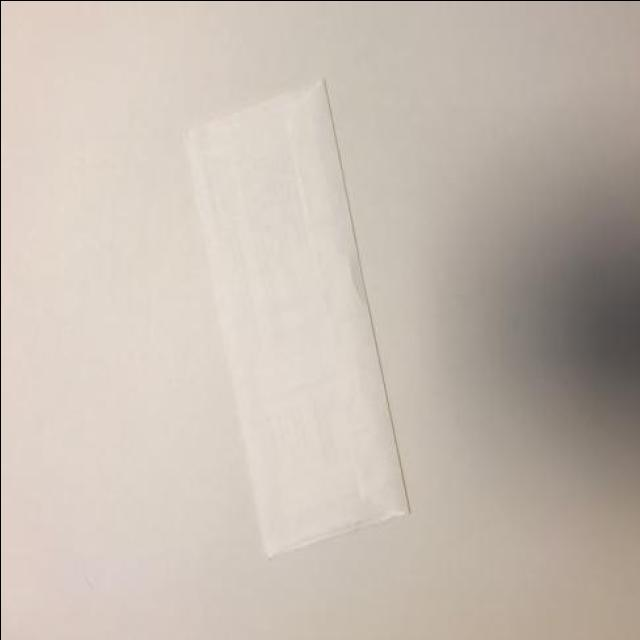kertas: (184, 77, 408, 557)
